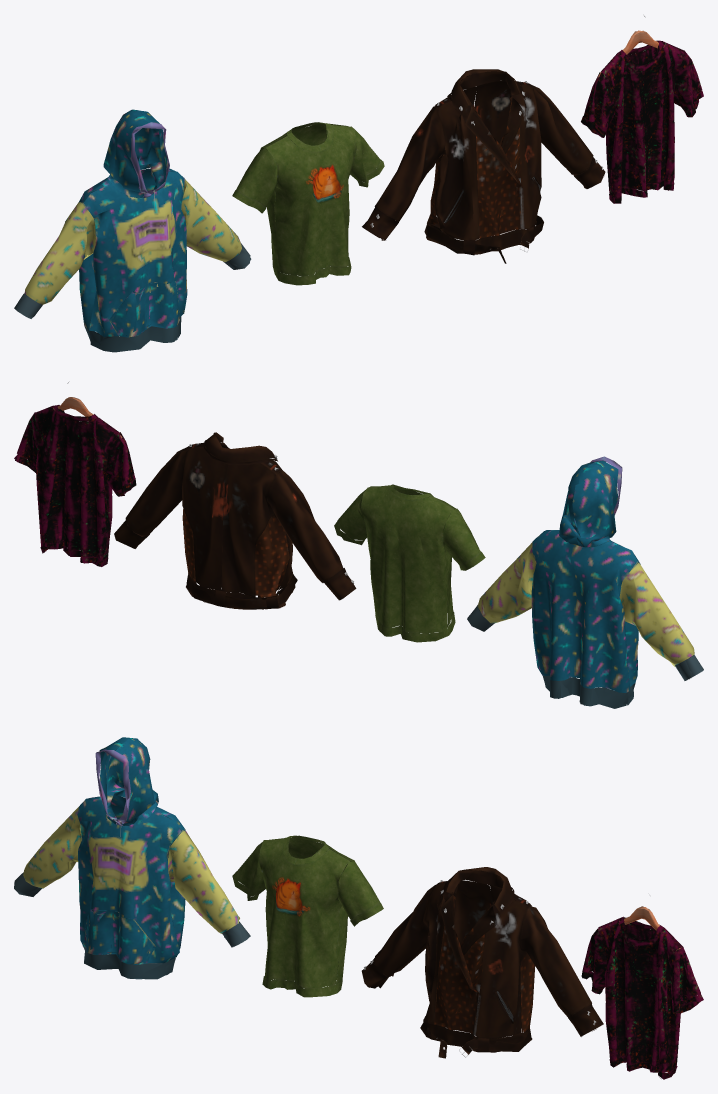
The model's file is SM_clothes_jackets_pack.glb.
The picture shows the model from 3 angles, top to bottom: view 1: azimuth 30°, elevation 25°; view 2: azimuth 150°, elevation 25°; view 3: azimuth 330°, elevation 25°; orthographic projection.
Parts seen in each view (by area): view 1: SM_clothes_jackets_pack; view 2: SM_clothes_jackets_pack; view 3: SM_clothes_jackets_pack.
Boxes of the visible parts, x1,y1,x2,y2 form: SM_clothes_jackets_pack: [14, 16, 703, 352]; SM_clothes_jackets_pack: [14, 381, 703, 708]; SM_clothes_jackets_pack: [14, 737, 703, 1079].
Bounding box in the file's own units: 338 × 107 × 43.86.
Materials: 9 (8 with a texture image).
